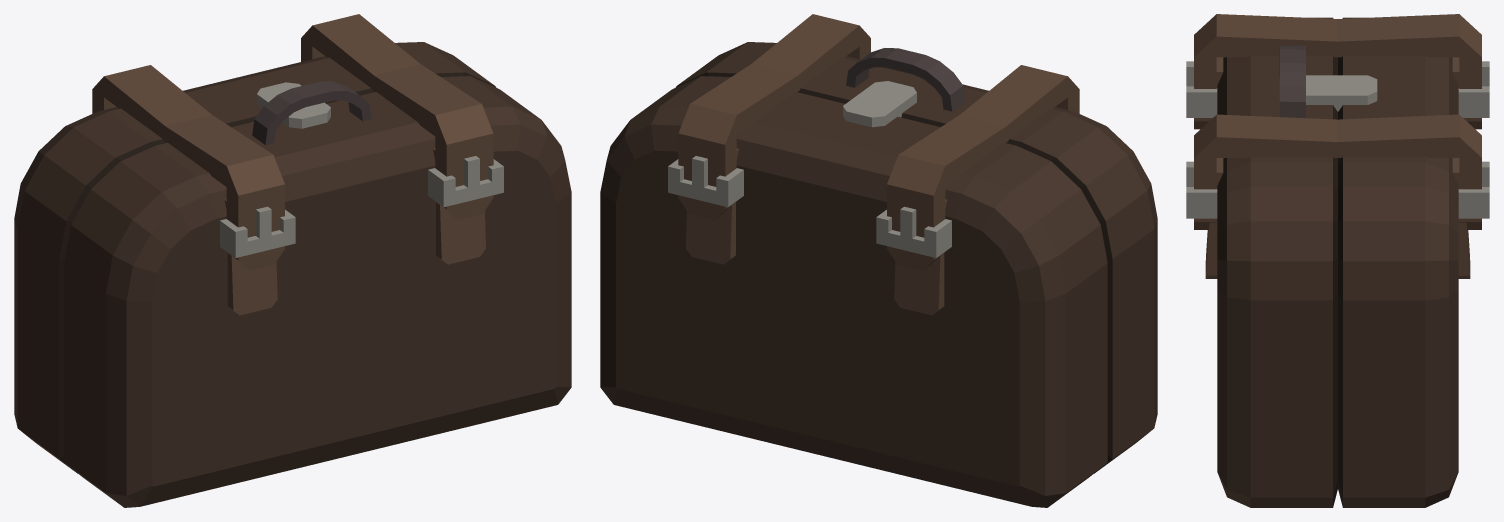
Rendered from 3D_Close_Aviator_Suitcase.fbx.
3 views of the same model, side by side, from view 1: azimuth 30°, elevation 25°; view 2: azimuth 150°, elevation 25°; view 3: azimuth 270°, elevation 25° (orthographic).
Visible parts, largest first — view 1: 3D_Close_Aviator_Suitcase; view 2: 3D_Close_Aviator_Suitcase; view 3: 3D_Close_Aviator_Suitcase.
Part boxes in pixels (bbox=[...]): 3D_Close_Aviator_Suitcase: bbox=[14, 14, 571, 507]; 3D_Close_Aviator_Suitcase: bbox=[600, 14, 1157, 507]; 3D_Close_Aviator_Suitcase: bbox=[1186, 14, 1489, 507].
Bounding box in the file's own units: 84.82 × 61.62 × 48.8.
